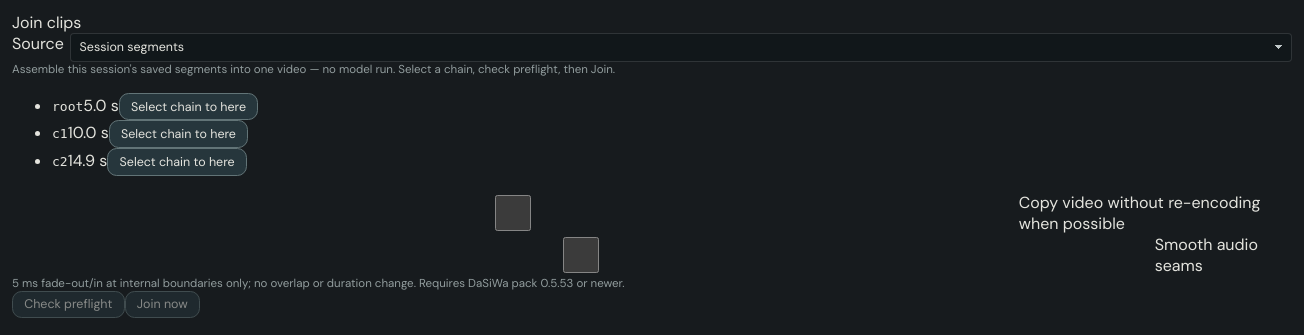
files mode: a blocked pick reports without adding a row
Select "Video files" in the dropdown labelled "Source". click: (681, 47)
box: [70,33,1292,62]
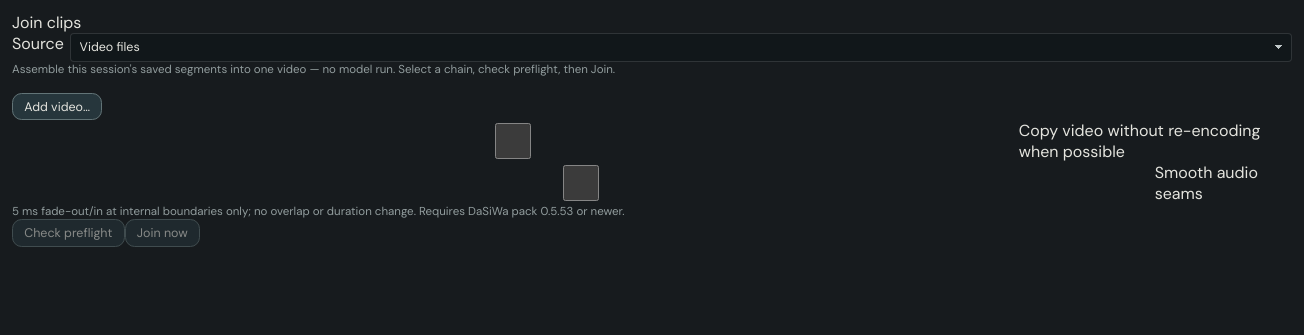
Click the button "Add video…". click: click(57, 107)
box: [12,93,102,120]
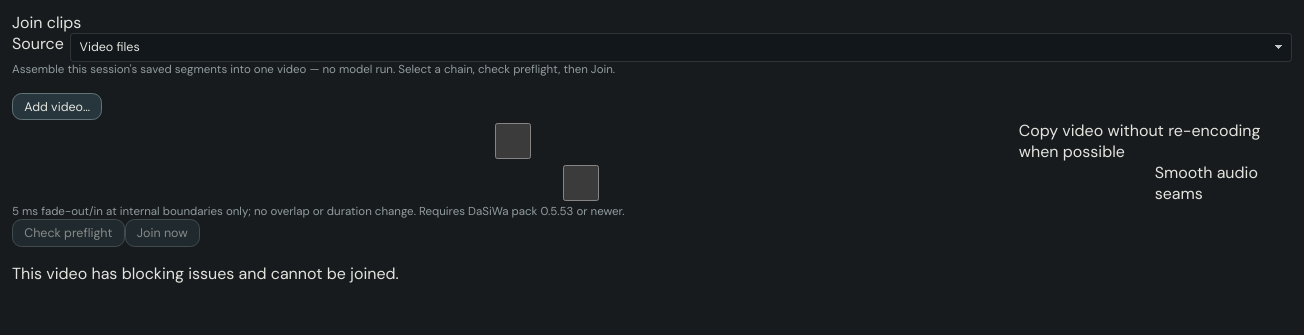
Check: the message shows "blocking issues", box [12,263,399,284]
